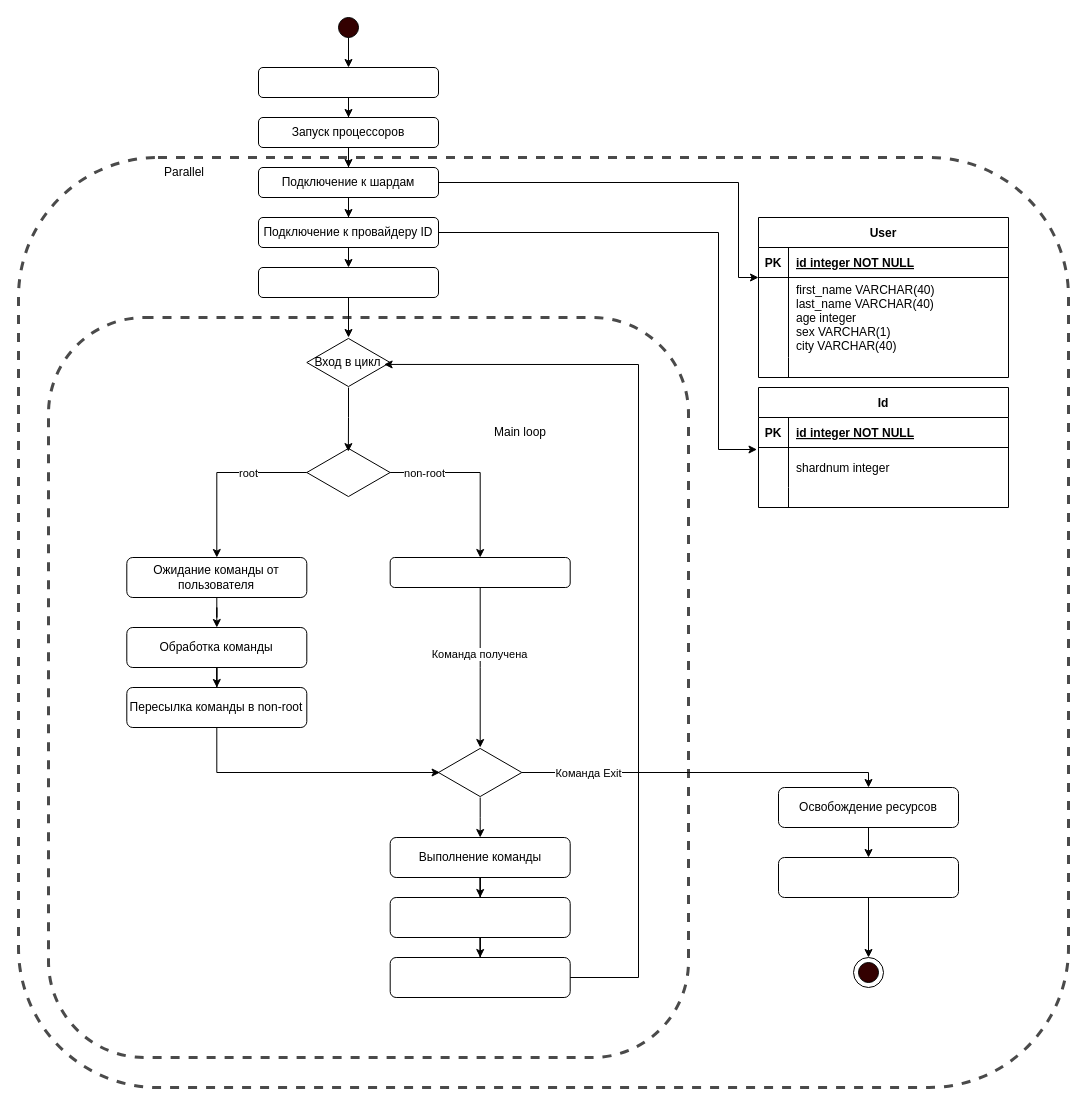
Image size: 1087x1106. Some labels were removed from this diagram. Here are the shapes that lost their labels. From the top down, the centre of each, then its label:
At [348,82]: "Запуск CLI".
At [348,282]: "Запрос пачки ID".
At [479,572]: "Ожидание команды от root".
At [868,877]: "Выход".
At [479,917]: "Вывод результатов".
At [479,977]: "Возврат в цикл".
